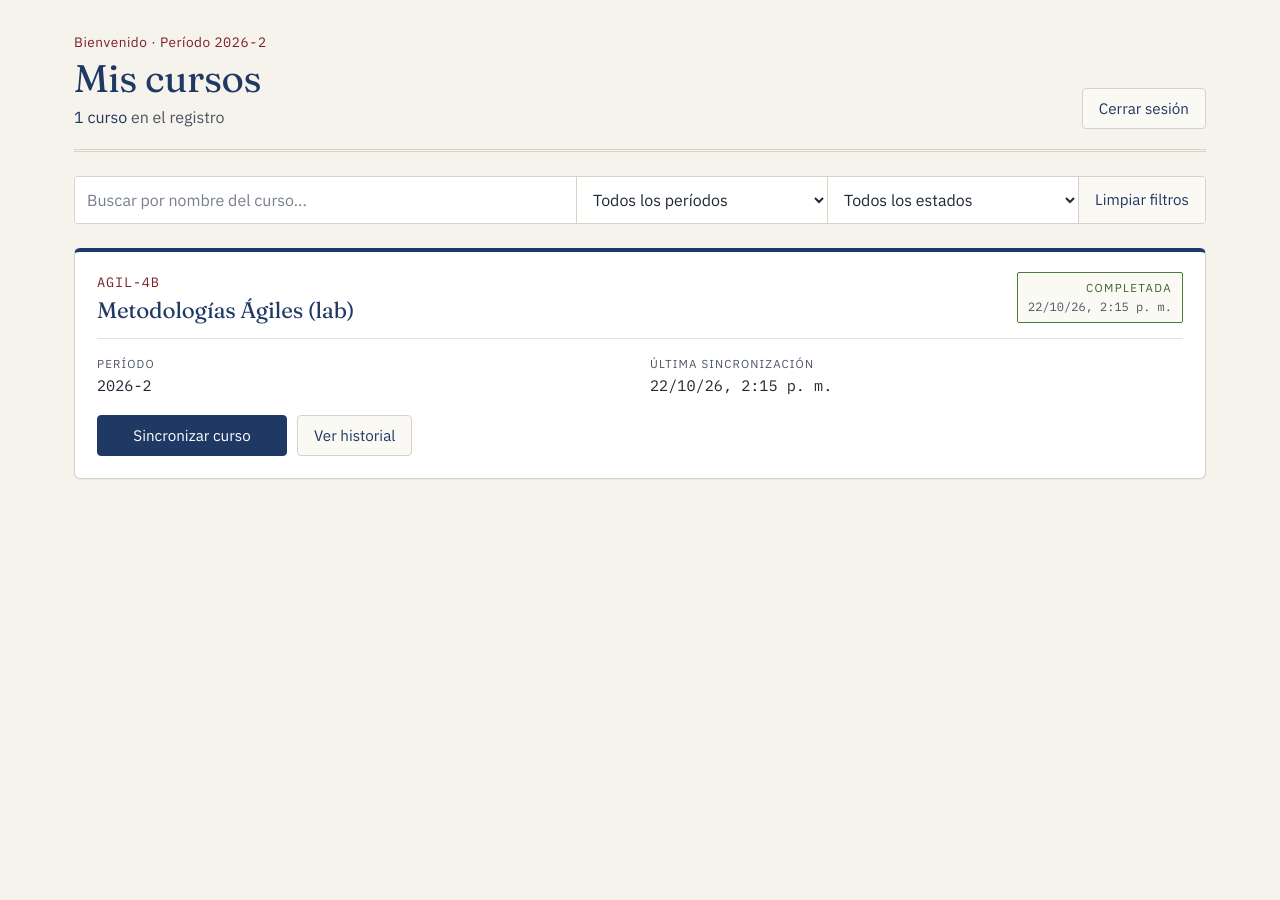
Test case: Mis cursos › muestra una advertencia cuando la sincronización es parcial
The image size is (1280, 900).
Expected: the text "AGIL-4B" is shown, [97,272,160,290]
Click the button "Sincronizar curso": (192, 435) [97,415,287,456]
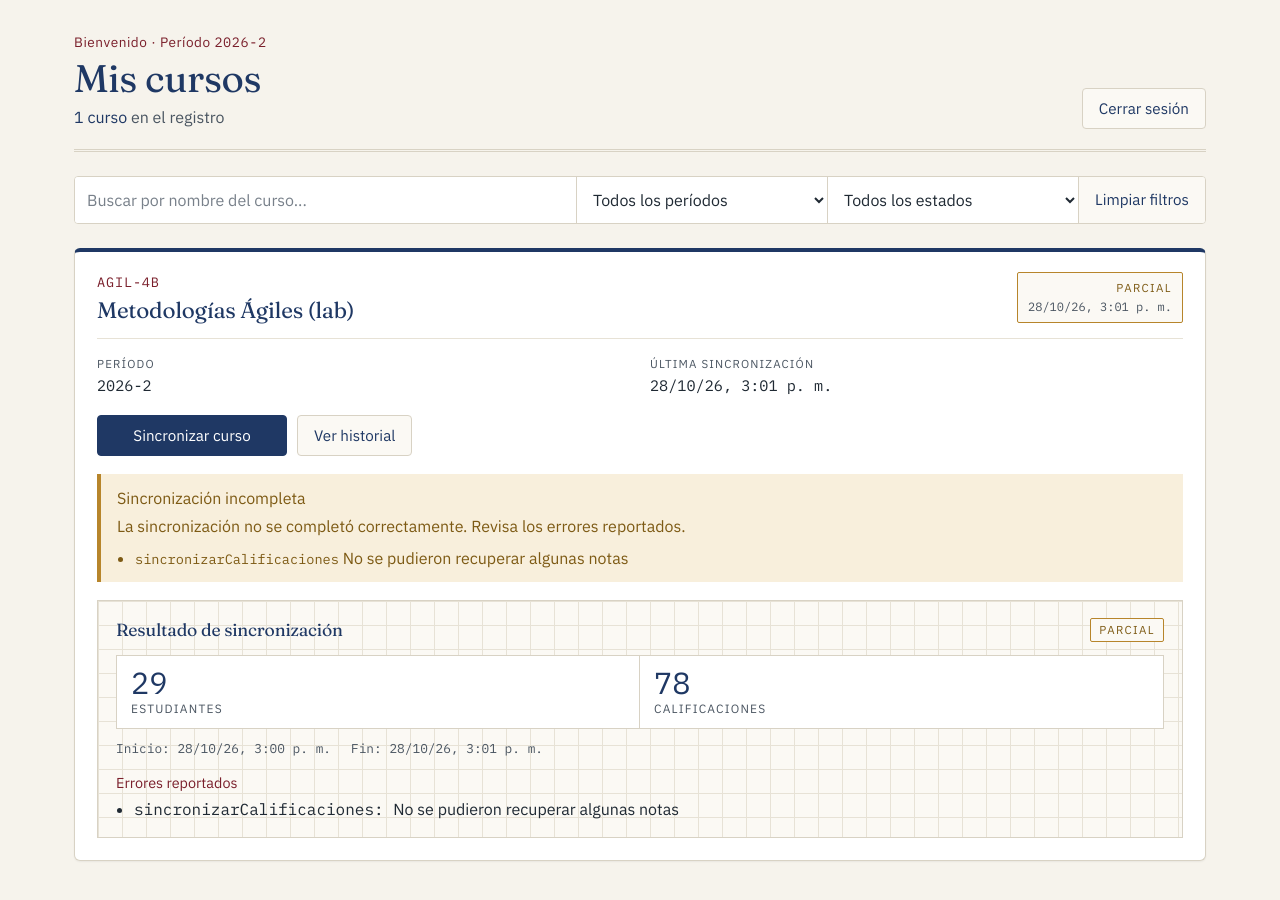
Now the text "Sincronización incompleta" is shown, box [117,488,306,508]
Now the list item "No se pudieron recuperar algunas notas" is shown, box [343,548,628,568]
